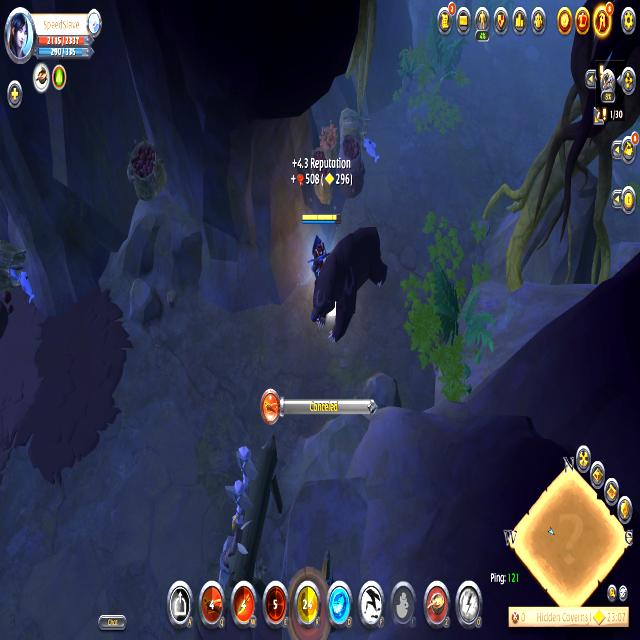ore: (310, 217, 388, 347)
red: (298, 204, 344, 288)
stone: (324, 298, 340, 322)
